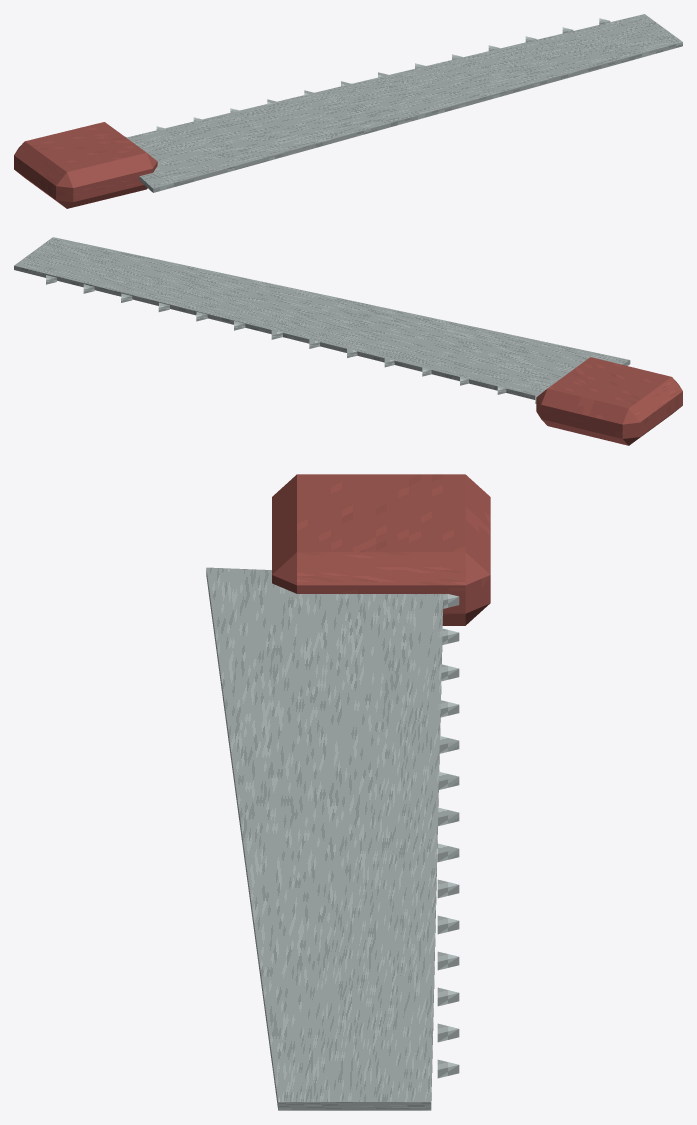
The model's file is saw.glb.
The picture shows the model from 3 angles, top to bottom: view 1: azimuth 30°, elevation 25°; view 2: azimuth 150°, elevation 25°; view 3: azimuth 270°, elevation 25°; orthographic projection. The views are drawn at different scales.
Visible parts, largest first — view 1: block_toothed blade, block_handle; view 2: block_toothed blade, block_handle; view 3: block_toothed blade, block_handle.
Part boxes in pixels (<box>): block_toothed blade: <box>128,14,682,192</box>; block_handle: <box>14,122,157,208</box>; block_toothed blade: <box>14,237,630,399</box>; block_handle: <box>536,357,682,445</box>; block_toothed blade: <box>206,567,443,1110</box>; block_handle: <box>272,474,490,625</box>.
Bounding box in the file's own units: 0.46 × 0.026 × 0.091.
Materials: 1 (1 with a texture image).
